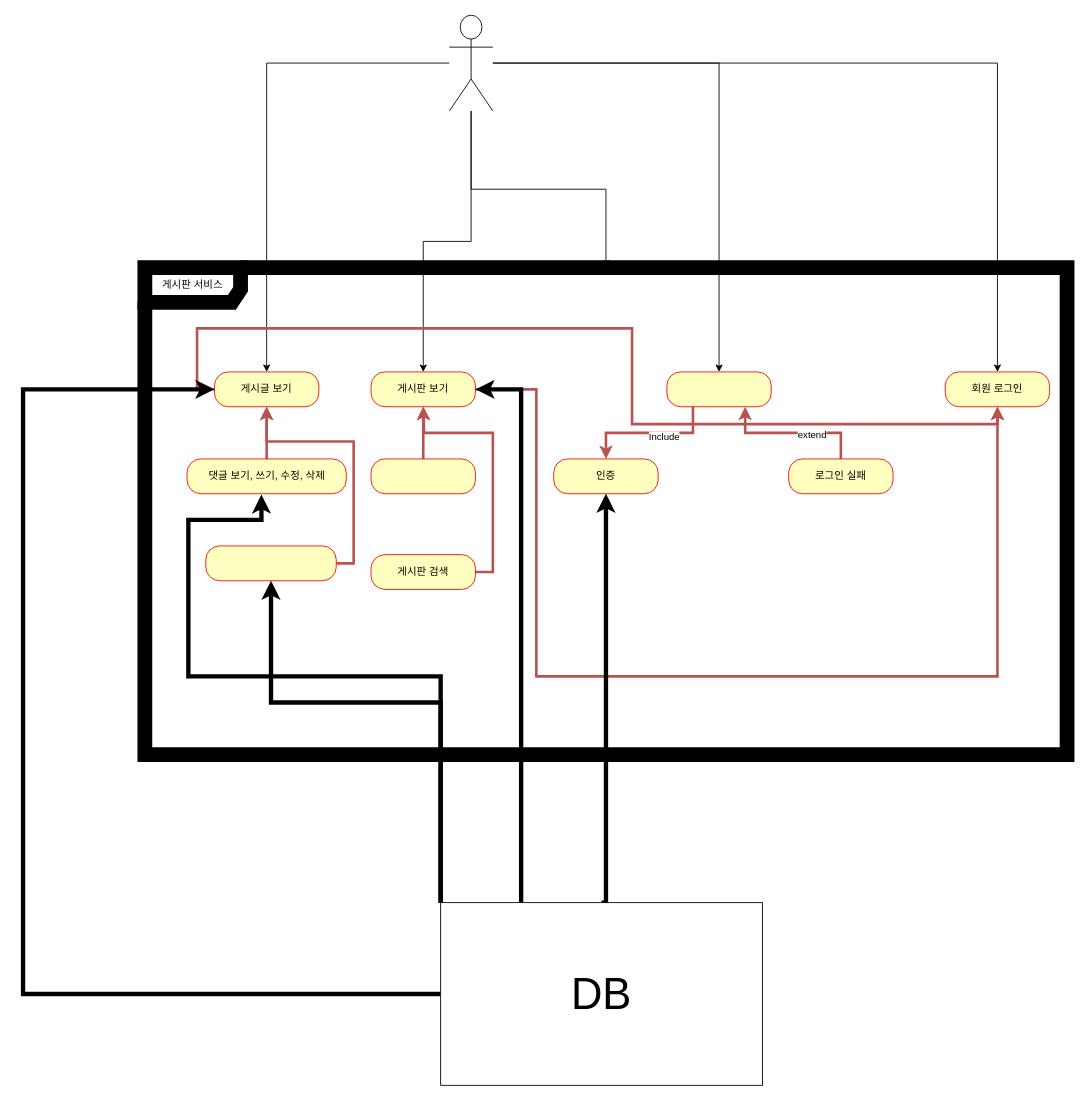
The diagram is 1089 pixels wide and 1101 high, and some of its shapes have lost their labels. The centre of each missing label's shape, as x and y in pixels:
"User" belongs at [470,62].
"게시글 수정, 삭제, 쓰기" belongs at [270,563].
"게시판 정렬" belongs at [422,476].
"회원 가입" belongs at [718,389].
